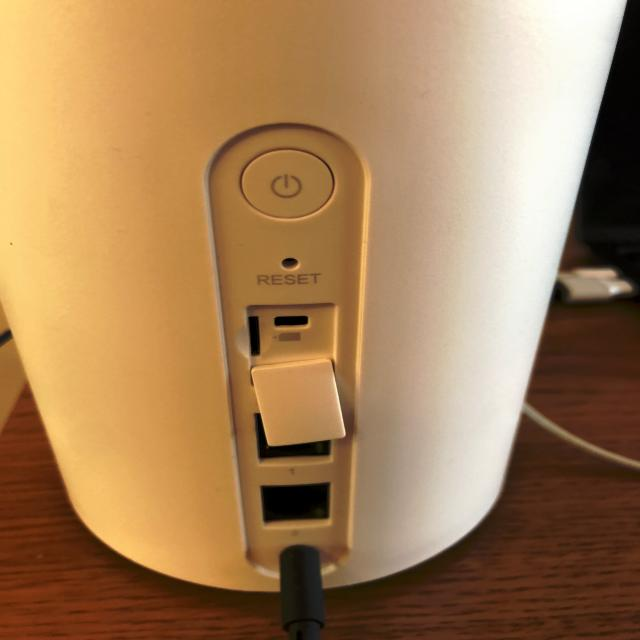lan: (262, 478, 334, 528)
modem: (0, 0, 622, 592)
onbutton: (239, 150, 337, 222)
powcab: (273, 543, 361, 640)
simopen: (227, 303, 280, 377)
